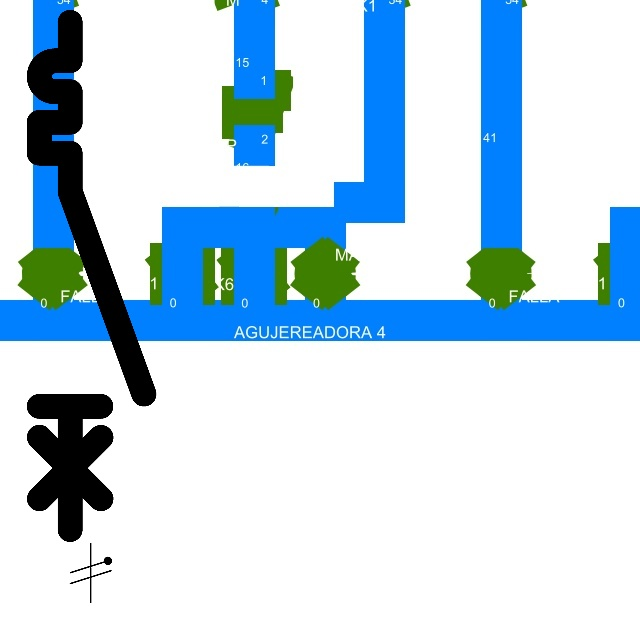interruptor_termomagnetico: (26, 9, 156, 543)
